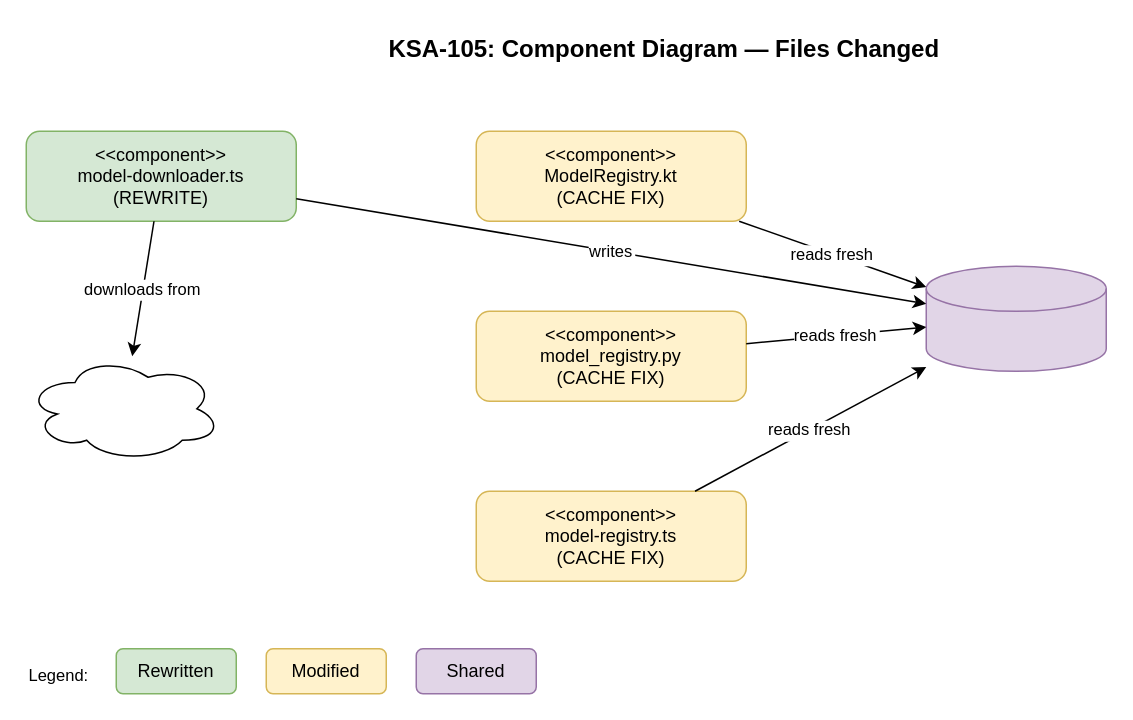
This 1133x720 diagram has some shape labels left out. Here are the shapes that lost their labels. From the top down, the centre of each, then its label:
point 1015,318: registry.json (shared state)
point 123,408: HuggingFace (HTTPS)
